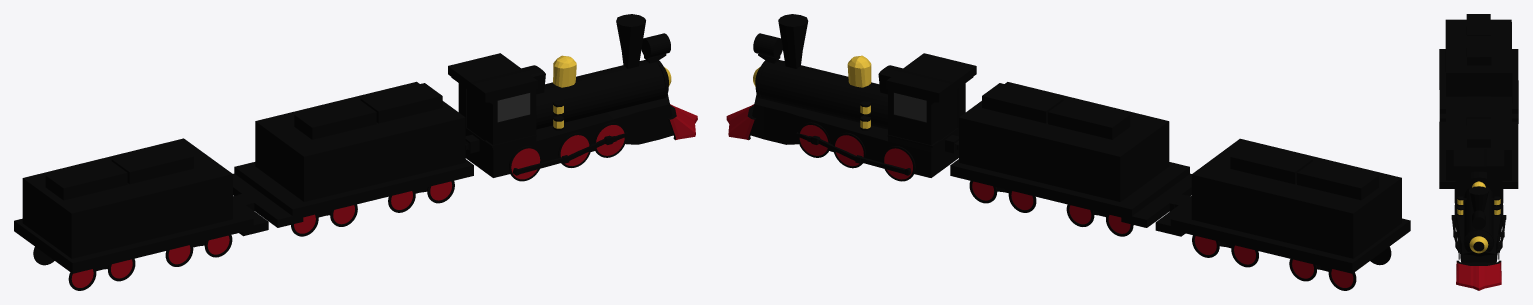
Rendered from train.glb.
3 views of the same model, side by side, from view 1: azimuth 30°, elevation 25°; view 2: azimuth 150°, elevation 25°; view 3: azimuth 270°, elevation 25° (orthographic). The views are drawn at different scales.
Parts seen in each view (by area): view 1: Cylinder; view 2: Cylinder; view 3: Cylinder.
Part boxes in pixels (x1,y1,x2,y2): Cylinder: (14,14,697,290); Cylinder: (726,14,1410,290); Cylinder: (1439,14,1518,290).
Size of the model in its own units: 7.42 by 1.28 by 1.15.
